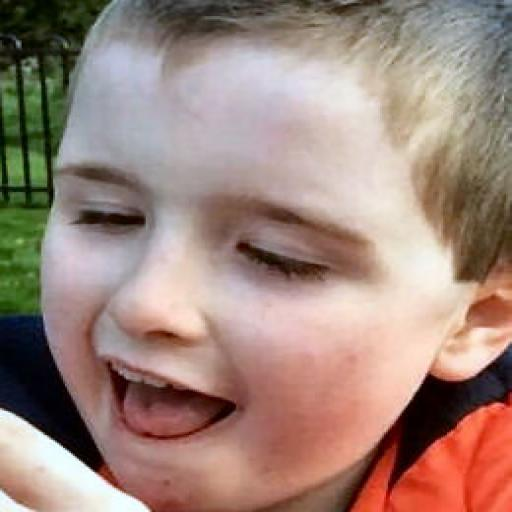Autism: (15, 12, 512, 512)
